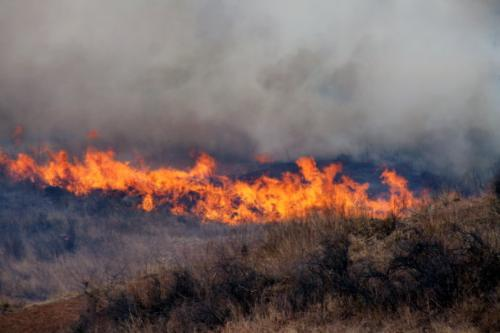fire: (206, 163, 412, 221), (8, 153, 210, 207)
